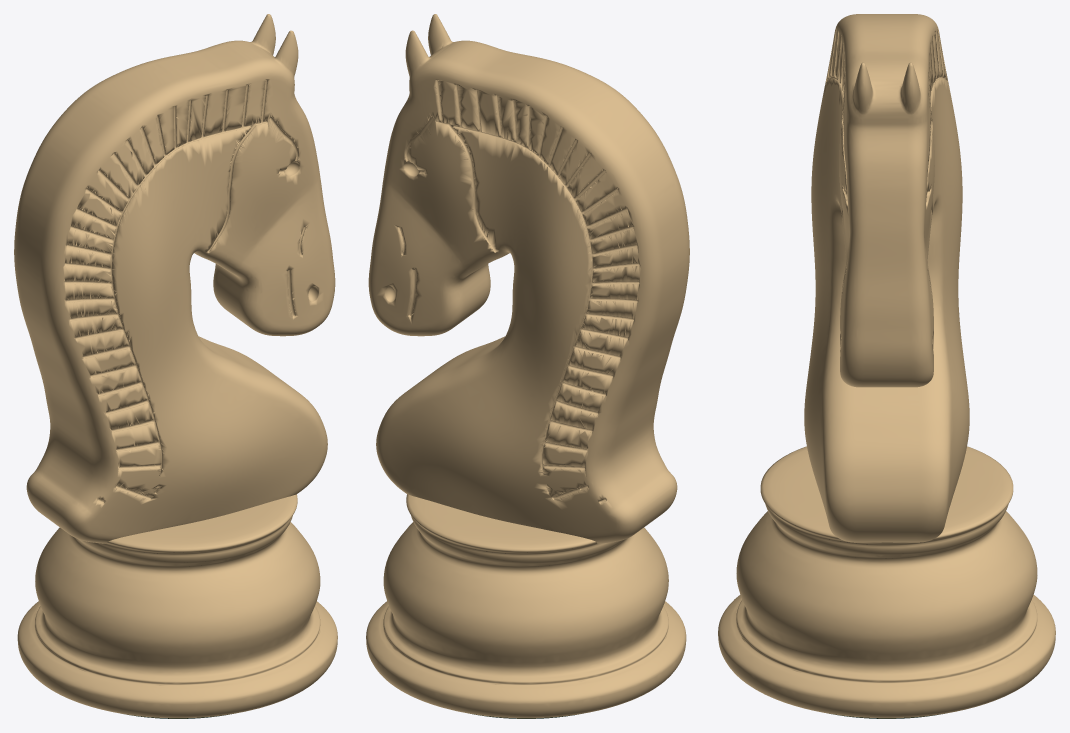
File: knight.glb
3 views of the same model, side by side, from view 1: azimuth 30°, elevation 25°; view 2: azimuth 150°, elevation 25°; view 3: azimuth 270°, elevation 25° (orthographic). The views are drawn at different scales.
Visible parts, largest first — view 1: Piece_Knight; view 2: Piece_Knight; view 3: Piece_Knight.
Boxes of the visible parts, x1,y1,x2,y2 form: Piece_Knight: (14, 14, 337, 718); Piece_Knight: (366, 14, 689, 718); Piece_Knight: (718, 14, 1055, 718).
Bounding box in the file's own units: 0.0388 × 0.0784 × 0.037.
